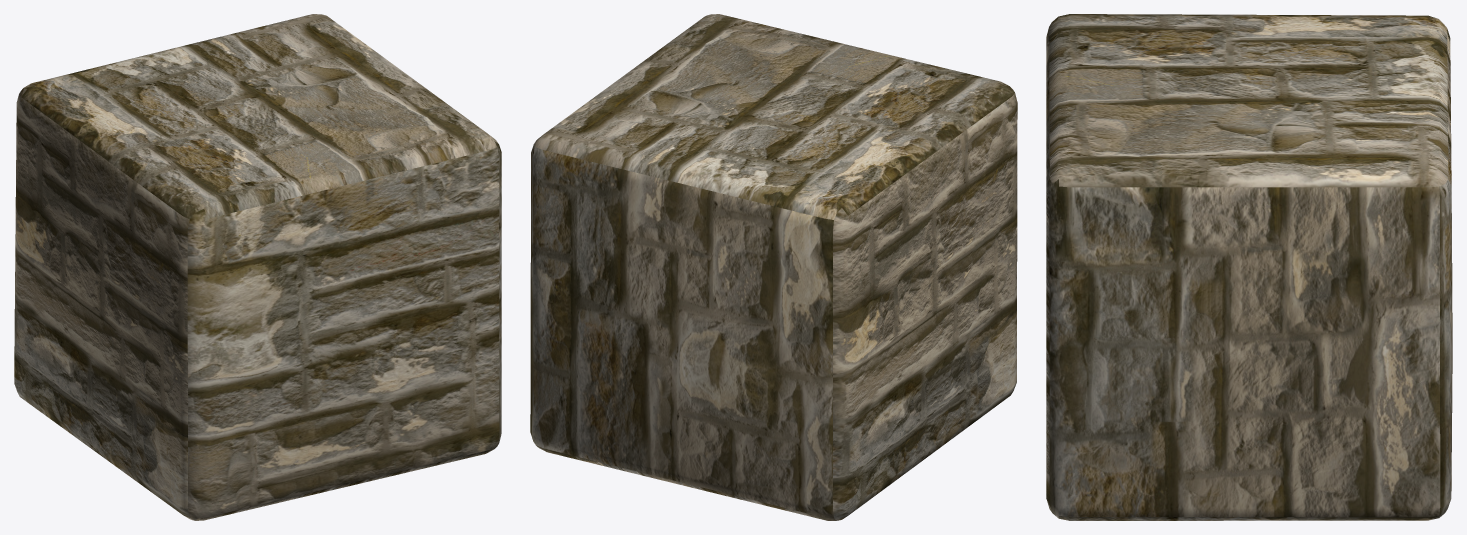
Rendered from stone_block_b.glb.
The picture shows the model from 3 angles, left to right: view 1: azimuth 30°, elevation 25°; view 2: azimuth 150°, elevation 25°; view 3: azimuth 270°, elevation 25°; orthographic projection. The views are drawn at different scales.
Parts seen in each view (by area): view 1: stone_block_b; view 2: stone_block_b; view 3: stone_block_b.
Part boxes in pixels (x1,y1,x2,y2): stone_block_b: (14,14,501,520); stone_block_b: (530,14,1017,520); stone_block_b: (1046,14,1452,520).
Size of the model in its own units: 1.88 by 1.79 by 1.88.
1 material, 1 textured.
